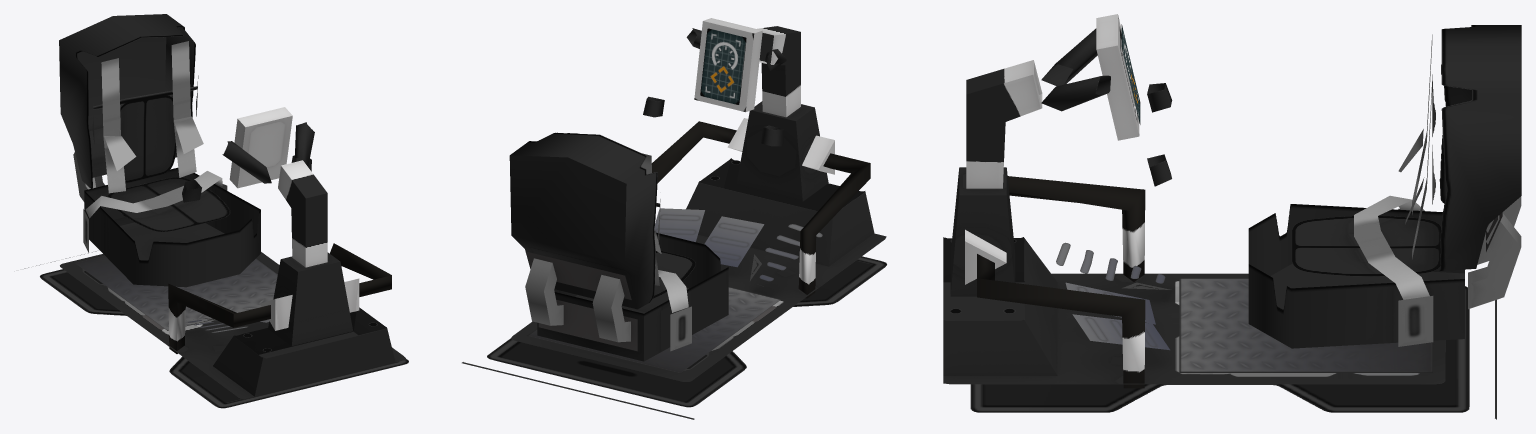
Rendered from obj_interactive_driverseat_03_lod1.fbx.
3 views of the same model, side by side, from view 1: azimuth 30°, elevation 25°; view 2: azimuth 150°, elevation 25°; view 3: azimuth 270°, elevation 25° (orthographic). The views are drawn at different scales.
Parts seen in each view (by area): view 1: obj_interactive_driverseat_012; view 2: obj_interactive_driverseat_012; view 3: obj_interactive_driverseat_012.
Boxes of the visible parts, x1,y1,x2,y2 form: obj_interactive_driverseat_012: (24, 14, 408, 408); obj_interactive_driverseat_012: (462, 18, 886, 419); obj_interactive_driverseat_012: (943, 14, 1521, 419).
Size of the model in its own units: 3.5 by 3.63 by 5.97.
1 material, 1 textured.
